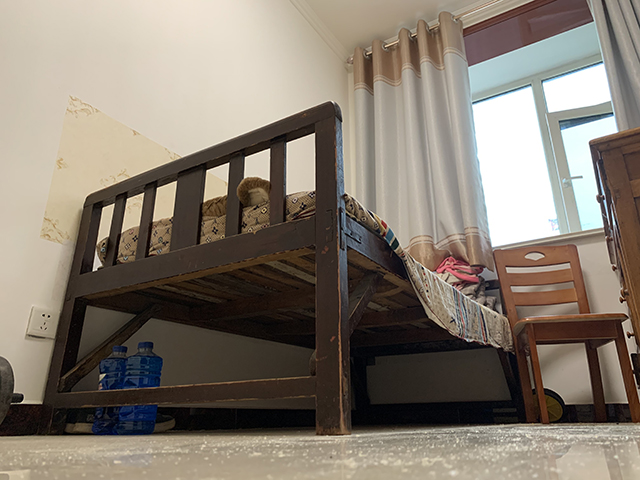bed: (35, 99, 528, 437)
stool: (491, 243, 640, 428)
